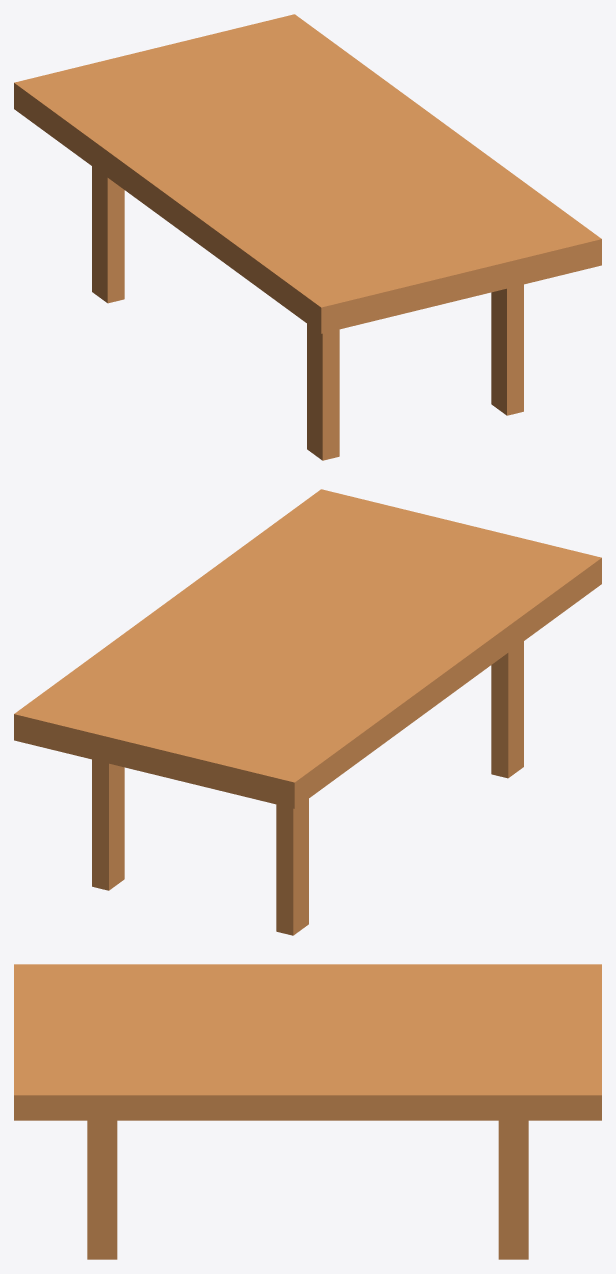
Rendered from Table.fbx.
3 views of the same model, one above another, from view 1: azimuth 30°, elevation 25°; view 2: azimuth 150°, elevation 25°; view 3: azimuth 270°, elevation 25° (orthographic). The views are drawn at different scales.
Parts seen in each view (by area): view 1: Cube.001; view 2: Cube.001; view 3: Cube.001.
Boxes of the visible parts, x1,y1,x2,y2 form: Cube.001: (14,14,601,460); Cube.001: (14,489,601,935); Cube.001: (14,964,601,1259).
Bounding box in the file's own units: 274 × 178 × 519.
